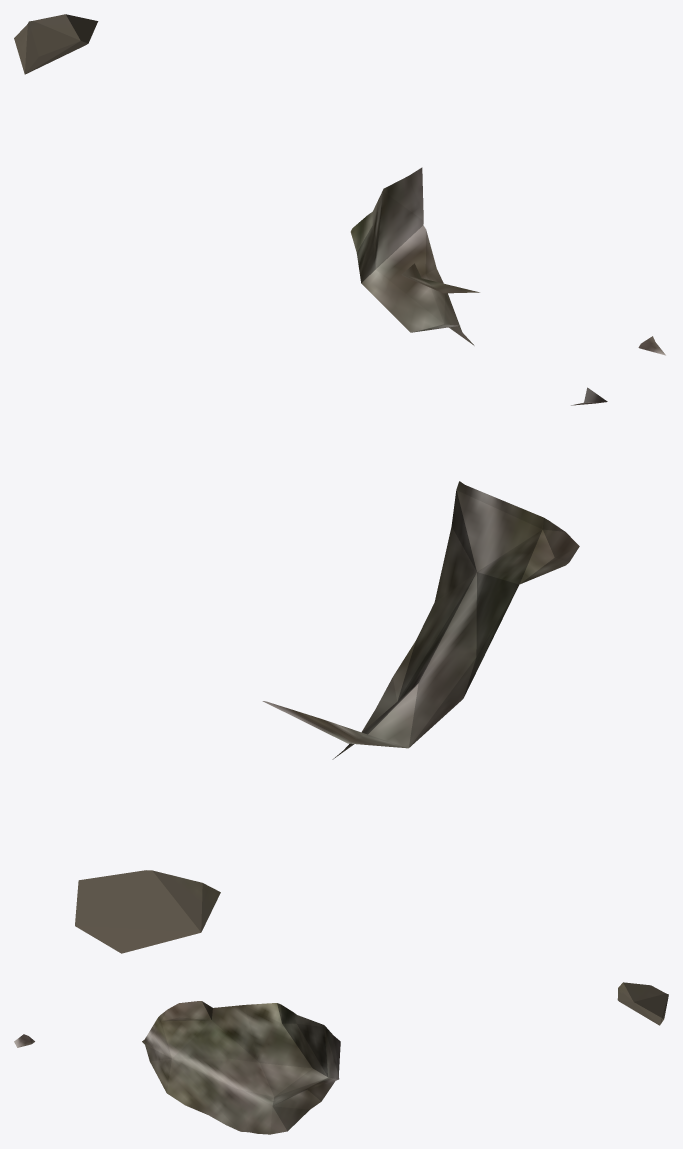
3 views of the same model, one above another, from view 1: azimuth 30°, elevation 25°; view 2: azimuth 150°, elevation 25°; view 3: azimuth 270°, elevation 25° (orthographic). The views are drawn at different scales.
Size of the model in its own units: 0.4001 by 0.293 by 1.87.
1 material, 1 textured.
